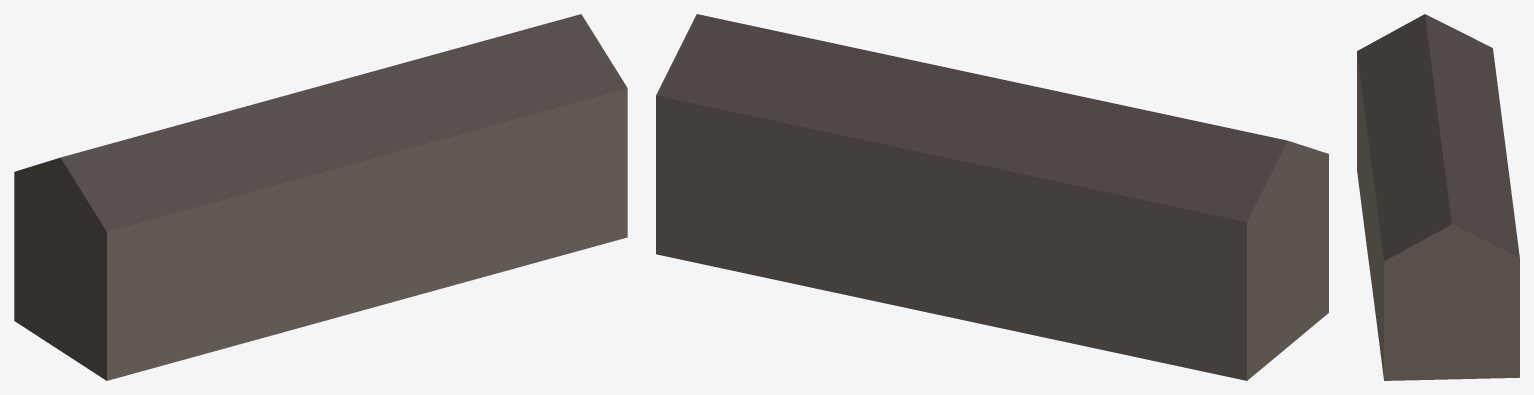
The picture shows the model from 3 angles, left to right: view 1: azimuth 30°, elevation 25°; view 2: azimuth 150°, elevation 25°; view 3: azimuth 270°, elevation 25°; orthographic projection. The views are drawn at different scales.
Visible parts, largest first — view 1: HP-w1424106470; view 2: HP-w1424106470; view 3: HP-w1424106470.
Part boxes in pixels (left/top/right/bottom): HP-w1424106470: left=14, top=14, right=627, bottom=380; HP-w1424106470: left=656, top=14, right=1328, bottom=380; HP-w1424106470: left=1357, top=14, right=1519, bottom=380.
Size of the model in its own units: 23 by 7.79 by 7.42.
